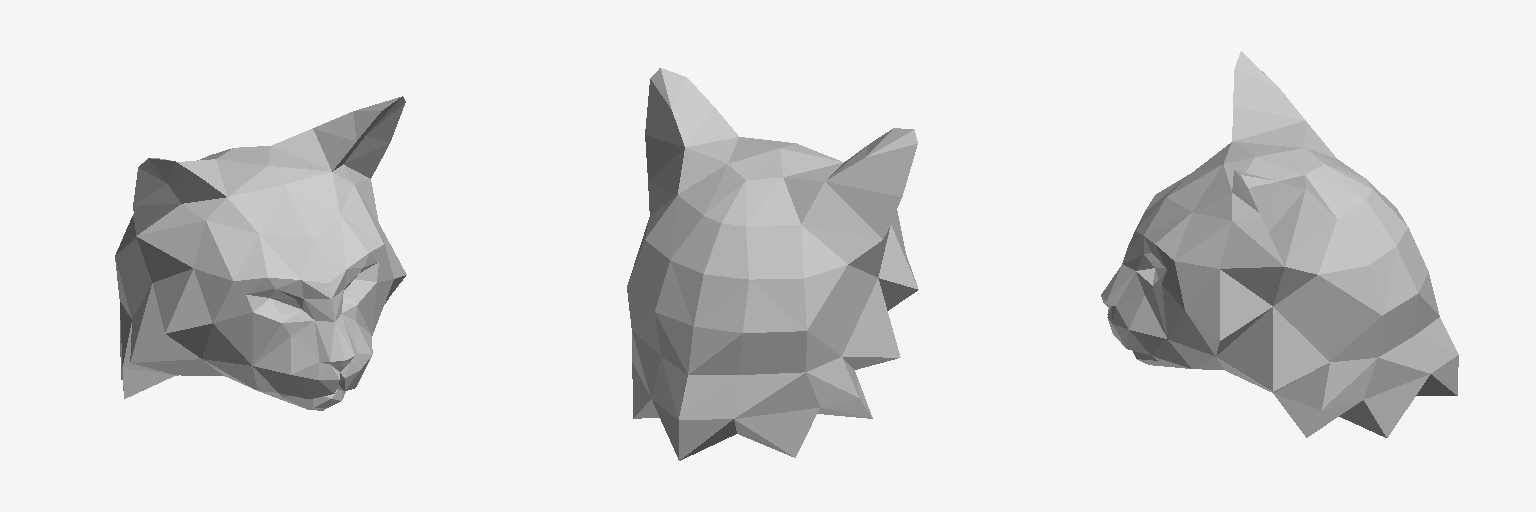
The model's file is KittyAZB.obj.
The picture shows the model from 3 angles: view 1: azimuth 30°, elevation 25°; view 2: azimuth 150°, elevation 25°; view 3: azimuth 270°, elevation 25°; orthographic projection.
Visible parts, largest first — view 1: polySurface2; view 2: polySurface2; view 3: polySurface2.
Part boxes in pixels (x1,y1,x2,y2): polySurface2: (115,96,406,410); polySurface2: (627,68,918,460); polySurface2: (1101,51,1458,437).
Bounding box in the file's own units: 8.37 × 8.55 × 9.68.